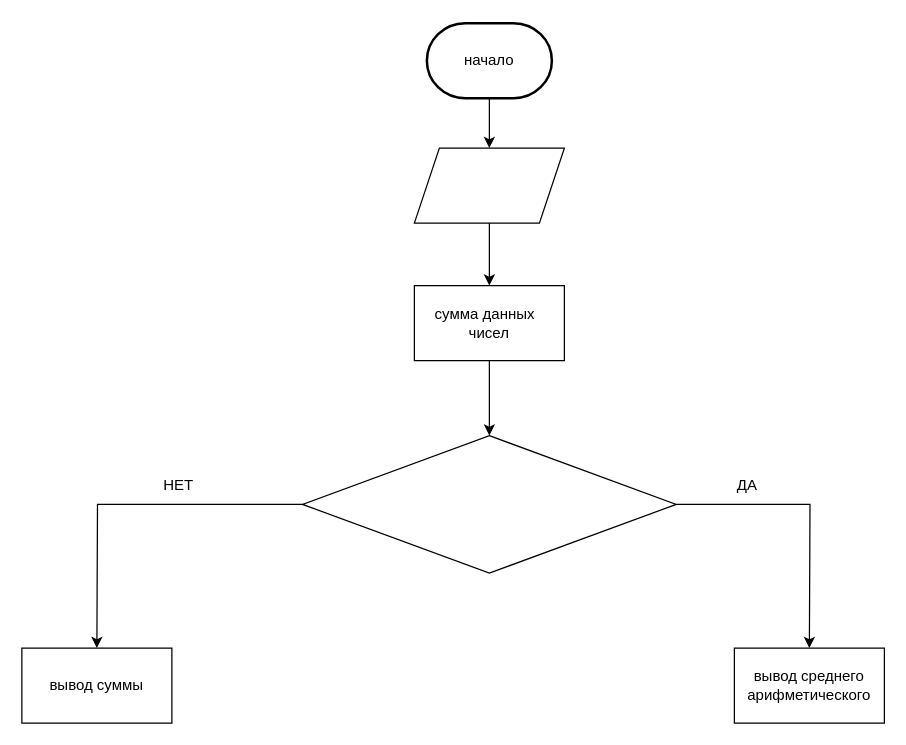
Image size: 906x745. Some labels were removed from this diagram. Each missing label, with the centre of its shape:
ввод данных чисел: the point at 488,185
сумма чисел / кол-во чисел = 1 частью от суммы?: the point at 488,503
